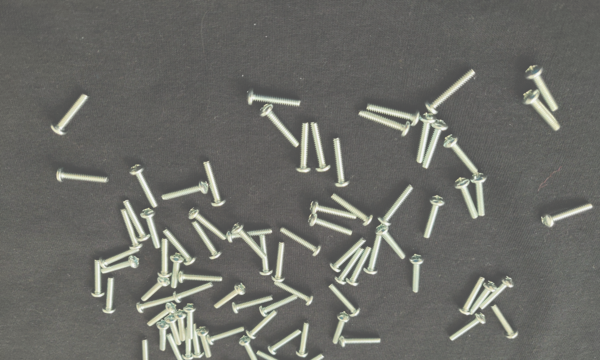longscrew: (424, 68, 478, 115), (523, 64, 561, 113), (522, 87, 563, 132), (259, 104, 300, 149), (49, 92, 90, 137), (377, 184, 415, 227), (358, 109, 412, 138), (443, 133, 480, 175), (541, 201, 594, 228), (422, 119, 450, 170), (329, 237, 367, 274), (367, 101, 421, 127), (188, 206, 228, 241), (163, 227, 198, 267), (129, 163, 159, 209), (331, 194, 374, 226), (231, 222, 267, 260), (280, 226, 324, 257), (191, 220, 224, 261), (479, 275, 516, 311), (122, 200, 152, 243), (374, 223, 407, 261), (334, 247, 366, 286), (415, 112, 438, 165), (246, 87, 301, 109), (345, 245, 373, 287), (203, 160, 228, 207), (310, 121, 332, 174), (458, 276, 487, 316), (328, 283, 361, 318), (454, 177, 480, 221), (449, 312, 487, 342), (161, 178, 210, 201), (274, 280, 315, 307), (119, 208, 145, 250), (469, 280, 499, 316), (308, 213, 353, 237), (330, 137, 351, 188), (423, 194, 446, 240), (309, 199, 357, 221), (491, 304, 520, 340), (246, 309, 279, 340), (267, 328, 302, 357), (259, 293, 299, 318), (98, 247, 141, 270), (294, 120, 312, 174), (56, 166, 110, 184), (214, 282, 248, 310), (173, 281, 214, 304), (140, 208, 162, 250), (231, 294, 274, 315), (226, 225, 273, 244), (206, 325, 246, 346), (469, 173, 488, 217), (364, 232, 383, 275), (140, 276, 171, 302), (136, 295, 176, 315), (146, 303, 178, 328), (101, 255, 140, 274), (408, 254, 425, 294), (258, 235, 274, 276), (157, 237, 173, 278), (332, 311, 351, 345), (271, 240, 286, 283), (178, 270, 224, 284), (164, 314, 183, 347), (90, 259, 106, 298), (166, 333, 188, 360), (296, 320, 311, 359), (102, 276, 117, 315), (238, 335, 261, 360), (170, 252, 185, 290), (339, 335, 382, 348), (183, 304, 198, 341), (197, 325, 213, 359), (191, 323, 205, 360), (156, 320, 170, 353), (182, 326, 195, 360), (174, 309, 187, 343), (257, 349, 294, 360), (139, 337, 153, 360), (290, 352, 325, 360)
